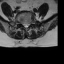CCS_normal: (25, 21, 27, 29)
LFS_normal: (29, 20, 31, 26)
LLS_normal: (27, 21, 29, 28)
RFS_severe_stenosis: (20, 21, 23, 26)
RLS_normal: (23, 22, 25, 28)
